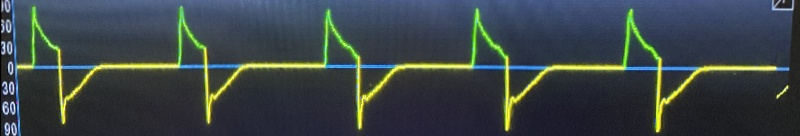normal_flow: (17, 0, 760, 133)
